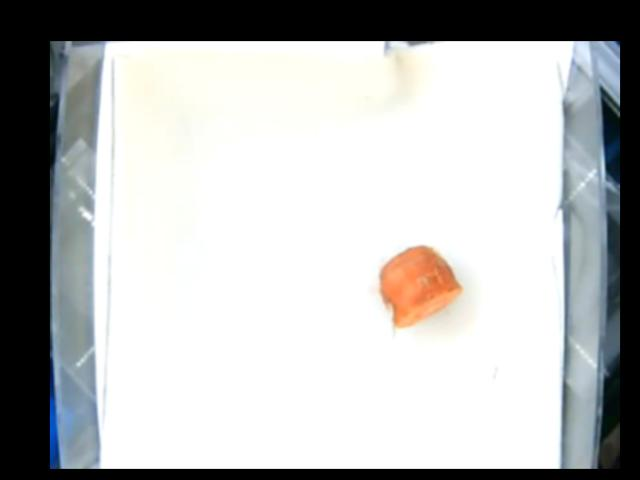Carrot: (377, 245, 461, 323)
